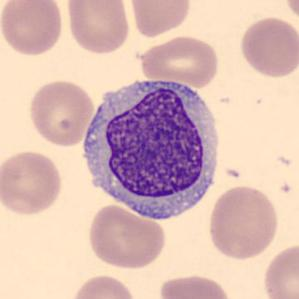Monocyte: (74, 70, 228, 228)
RBC: (206, 182, 282, 262), (85, 203, 168, 270), (26, 78, 96, 148), (0, 148, 65, 218), (138, 34, 221, 87), (237, 14, 298, 80), (64, 0, 132, 56), (0, 0, 65, 57), (127, 0, 193, 38), (261, 241, 298, 299), (158, 272, 234, 299), (68, 272, 138, 299), (281, 0, 299, 25)
